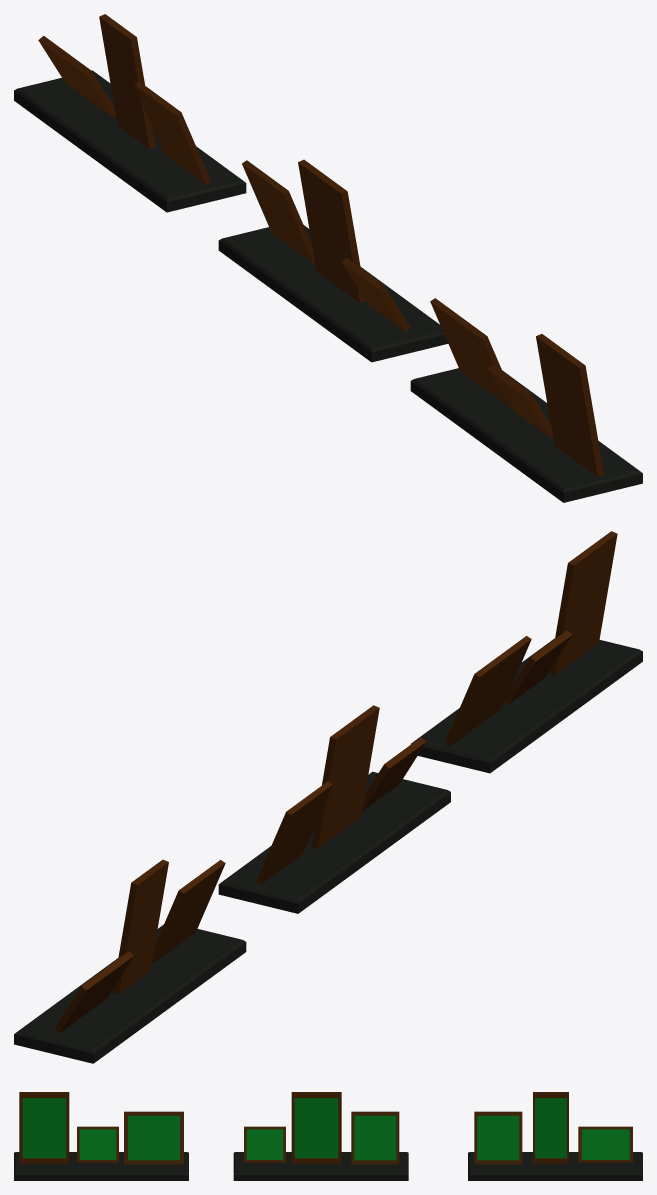
The model's file is shelves.fbx.
3 renders of one model, top to bottom at view 1: azimuth 30°, elevation 25°; view 2: azimuth 150°, elevation 25°; view 3: azimuth 270°, elevation 25°, orthographic. The views are drawn at different scales.
Visible parts, largest first — view 1: Cube, Cube.001, Cube.002; view 2: Cube, Cube.001, Cube.002; view 3: Cube, Cube.001, Cube.002.
Part boxes in pixels (x1,y1,x2,y2): Cube: (410,298,642,502); Cube.001: (218,159,448,362); Cube.002: (14,14,246,212); Cube: (410,531,642,773); Cube.001: (218,705,450,913); Cube.002: (14,859,246,1063); Cube: (14,1092,188,1180); Cube.001: (233,1092,408,1180); Cube.002: (468,1092,642,1180).
Size of the model in its own units: 30 by 45.99 by 360.
